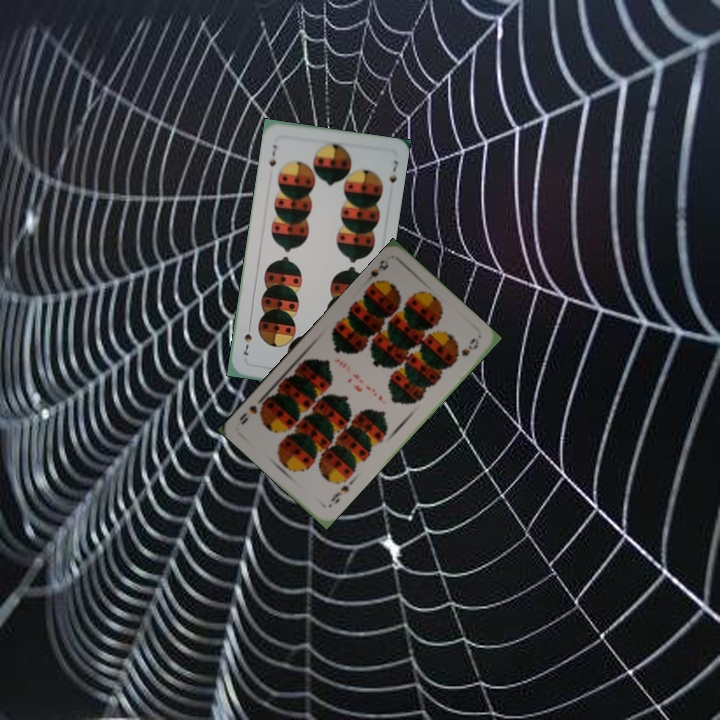S7: (265, 140, 279, 169)
S9: (364, 256, 391, 290), (327, 481, 352, 507)
